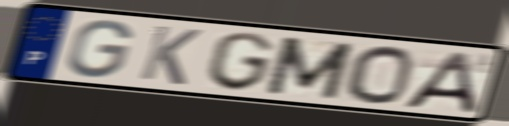A: (399, 50, 479, 115)
G: (204, 30, 277, 94), (64, 17, 135, 80)
K: (136, 23, 205, 88)
M: (262, 34, 358, 101)
O: (343, 44, 416, 106)
